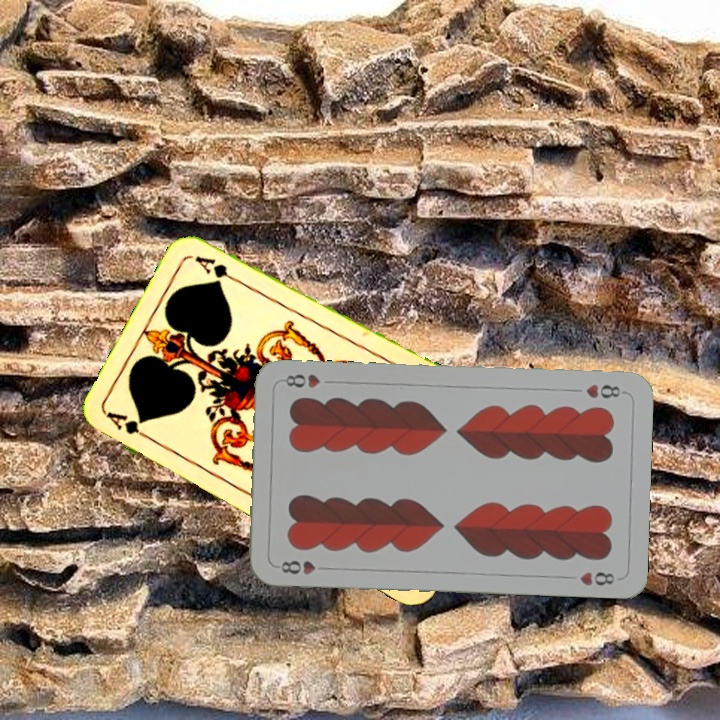GA: (103, 407, 158, 445)
H8: (581, 380, 628, 401), (276, 556, 318, 577)
